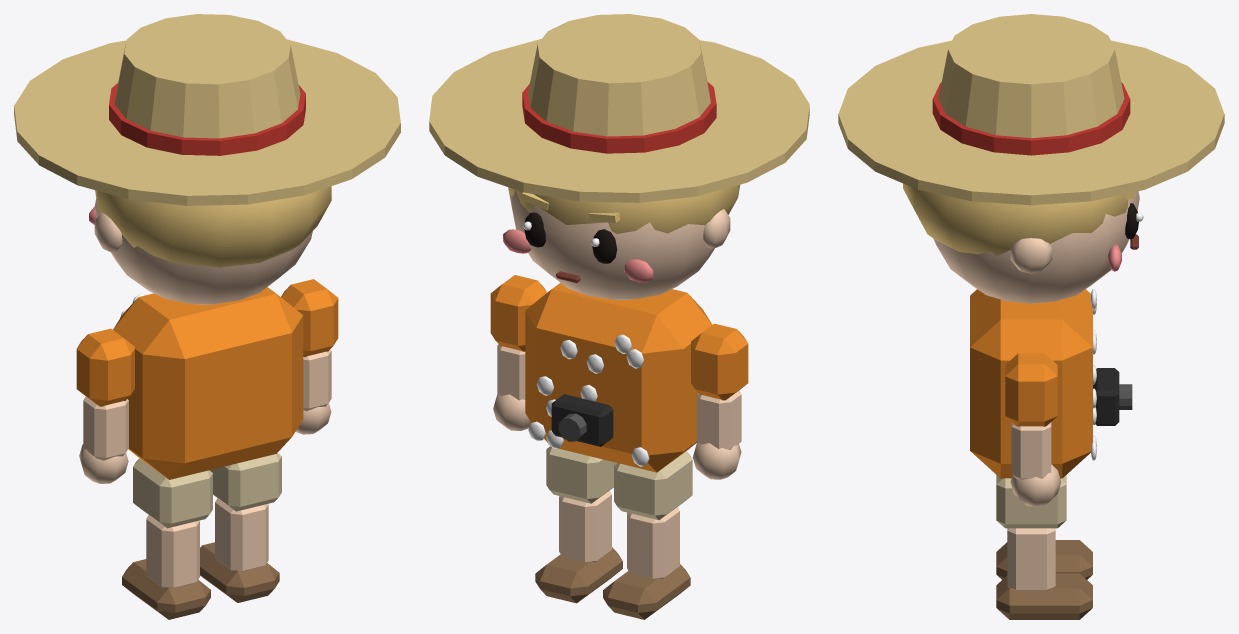
Rendered from tourist.glb.
The picture shows the model from 3 angles, left to right: view 1: azimuth 30°, elevation 25°; view 2: azimuth 150°, elevation 25°; view 3: azimuth 270°, elevation 25°; orthographic projection.
Parts seen in each view (by area): view 1: HeadMesh, TorsoMesh, LegLMesh, LegRMesh, ArmLMesh, ArmRMesh; view 2: HeadMesh, TorsoMesh, LegLMesh, LegRMesh, ArmLMesh, ArmRMesh; view 3: HeadMesh, TorsoMesh, LegRMesh, ArmRMesh, LegLMesh.
Part boxes in pixels (left/top/right/bottom): HeadMesh: left=14, top=14, right=400, bottom=304; TorsoMesh: left=113, top=287, right=303, bottom=479; LegLMesh: left=122, top=458, right=212, bottom=619; LegRMesh: left=200, top=453, right=281, bottom=602; ArmLMesh: left=76, top=328, right=134, bottom=483; ArmRMesh: left=281, top=279, right=338, bottom=434; HeadMesh: left=429, top=14, right=809, bottom=299; TorsoMesh: left=525, top=283, right=712, bottom=472; LegLMesh: left=603, top=451, right=692, bottom=619; LegRMesh: left=535, top=446, right=622, bottom=603; ArmLMesh: left=691, top=323, right=748, bottom=479; ArmRMesh: left=490, top=275, right=546, bottom=430; HeadMesh: left=838, top=14, right=1224, bottom=303; TorsoMesh: left=970, top=289, right=1132, bottom=478; LegRMesh: left=996, top=475, right=1092, bottom=619; ArmRMesh: left=1005, top=353, right=1061, bottom=507; LegLMesh: left=996, top=540, right=1092, bottom=579.
Bounding box in the file's own units: 0.88 × 1.37 × 0.88.
